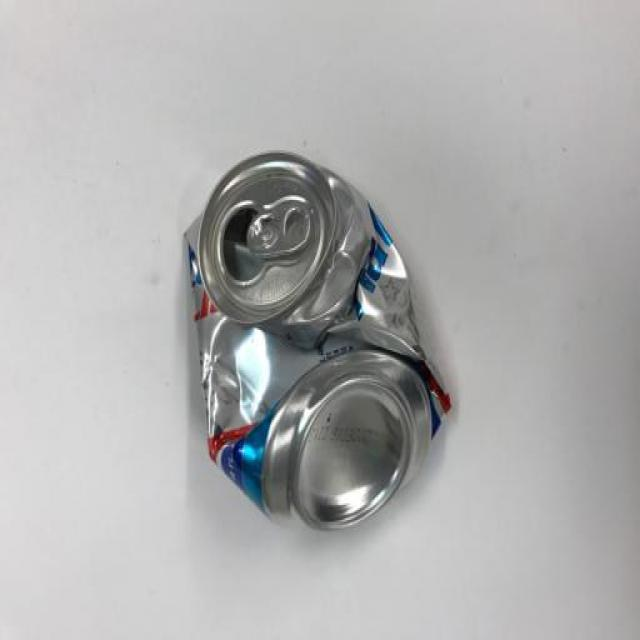metel: (168, 144, 472, 531)
